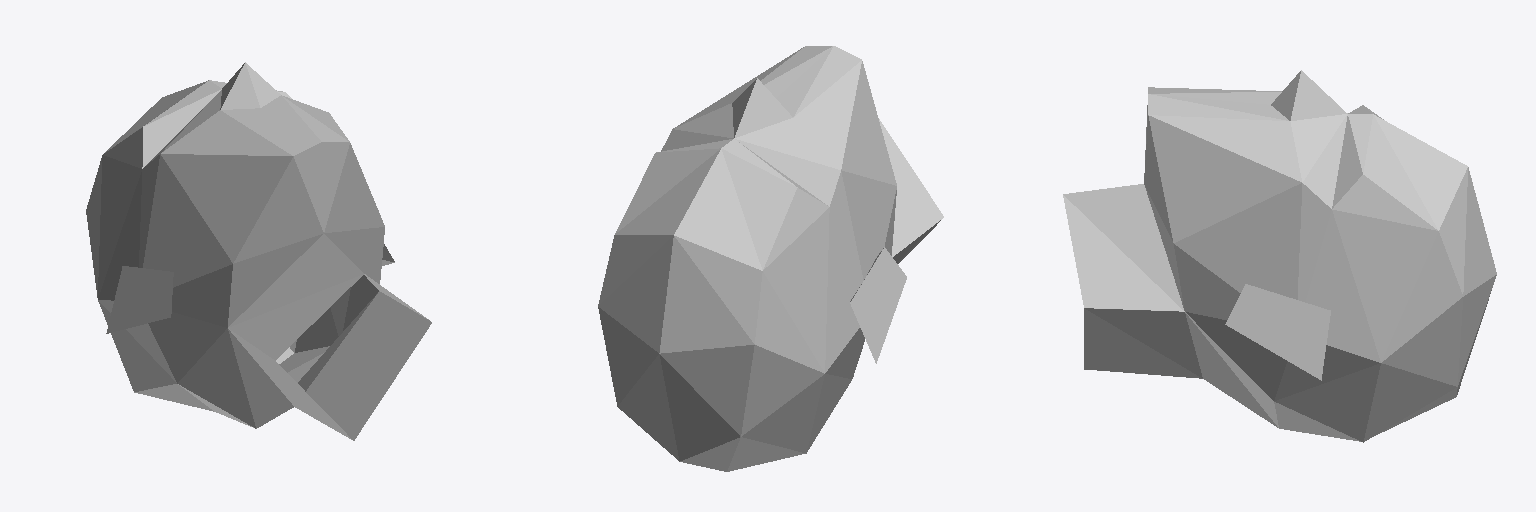
File: 02-head3.obj
The picture shows the model from 3 angles: view 1: azimuth 30°, elevation 25°; view 2: azimuth 150°, elevation 25°; view 3: azimuth 270°, elevation 25°; orthographic projection.
Visible parts, largest first — view 1: Man.004_Body.004; view 2: Man.004_Body.004; view 3: Man.004_Body.004.
Boxes of the visible parts, x1,y1,x2,y2 form: Man.004_Body.004: [86, 62, 431, 440]; Man.004_Body.004: [598, 46, 943, 471]; Man.004_Body.004: [1063, 70, 1496, 442].
Size of the model in its own units: 0.6848 by 0.9433 by 0.998.